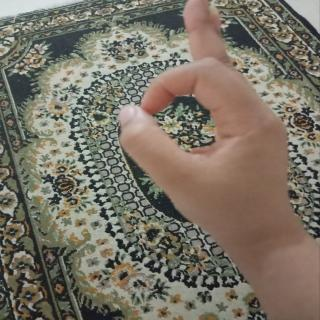Space: (107, 2, 320, 256)
